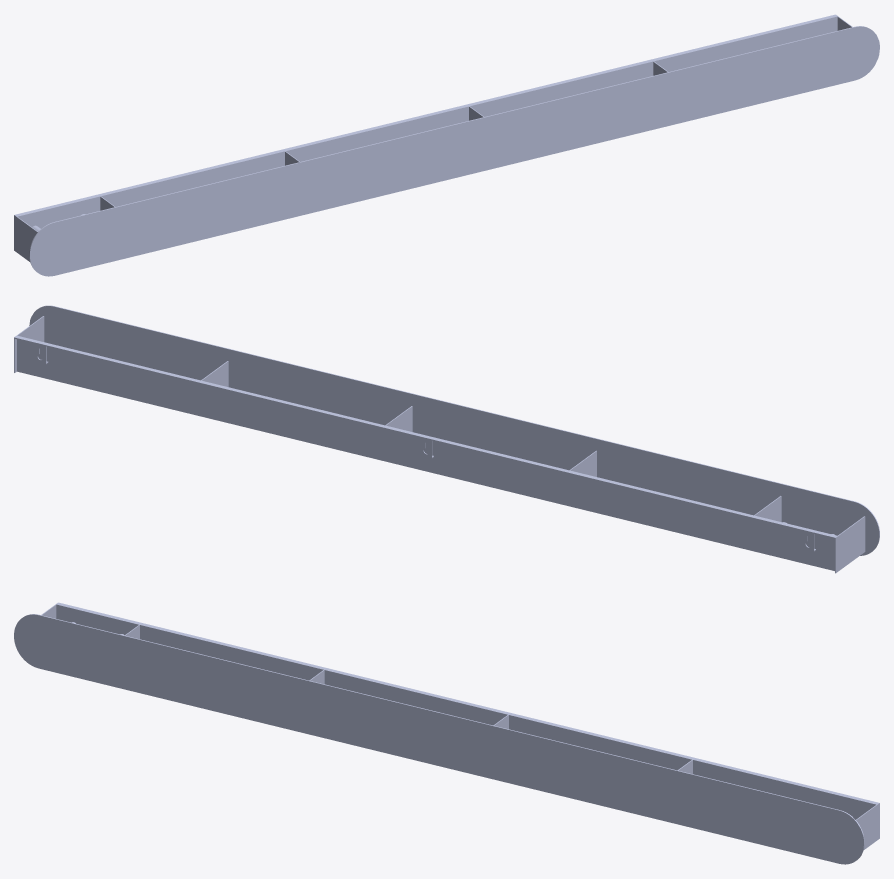
File: round-patron.f28ff86527.glb
3 renders of one model, top to bottom at view 1: azimuth 30°, elevation 25°; view 2: azimuth 150°, elevation 25°; view 3: azimuth 330°, elevation 25°, orthographic.
Visible parts, largest first — view 1: NAUO1; view 2: NAUO1; view 3: NAUO1.
Boxes of the visible parts, <box> form: NAUO1: <box>14,14,879,276</box>; NAUO1: <box>14,305,879,573</box>; NAUO1: <box>14,602,879,864</box>.
Size of the model in its own units: 1.5 by 0.0899 by 0.0919.
